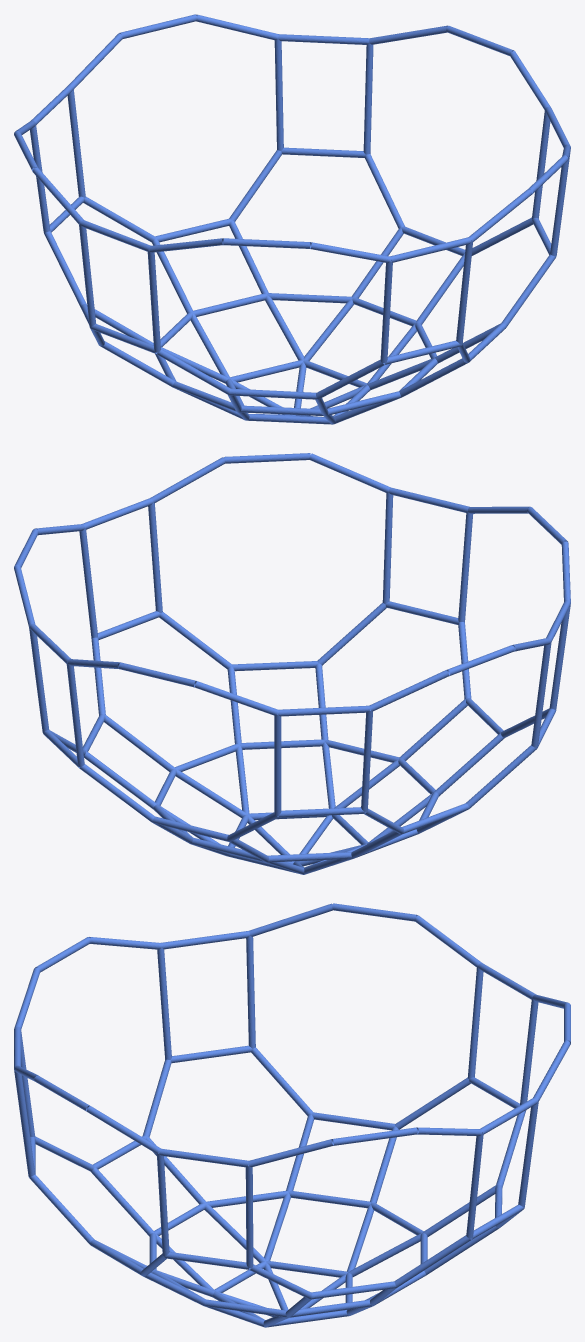
File: trinexus4_1c.glb
The picture shows the model from 3 angles, top to bottom: view 1: azimuth 30°, elevation 25°; view 2: azimuth 150°, elevation 25°; view 3: azimuth 270°, elevation 25°; orthographic projection.
Visible parts, largest first — view 1: Mesh_239; view 2: Mesh_239; view 3: Mesh_239.
Part boxes in pixels (x1,y1,x2,y2): Mesh_239: [14, 14, 570, 424]; Mesh_239: [14, 453, 570, 874]; Mesh_239: [14, 903, 570, 1327].
Bounding box in the file's own units: 9.62 × 5.64 × 9.49.
